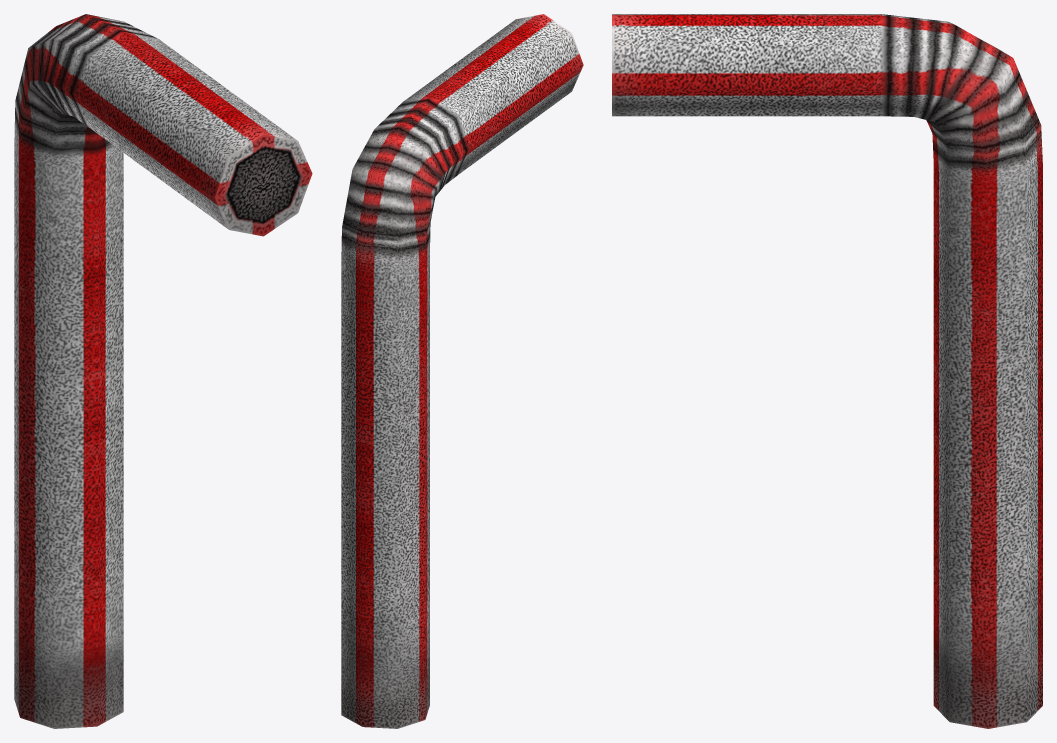
Rendered from HEAD_STRAW.fbx.
3 renders of one model, left to right at view 1: azimuth 30°, elevation 25°; view 2: azimuth 150°, elevation 25°; view 3: azimuth 270°, elevation 25°, orthographic. The views are drawn at different scales.
Visible parts, largest first — view 1: HEAD_STRAW; view 2: HEAD_STRAW; view 3: HEAD_STRAW.
Part boxes in pixels (x1=…): HEAD_STRAW: x1=14, y1=14, x2=312, y2=728; HEAD_STRAW: x1=341, y1=14, x2=583, y2=728; HEAD_STRAW: x1=612, y1=14, x2=1042, y2=728.
Size of the model in its own units: 0.00216 by 0.015 by 0.00852.
